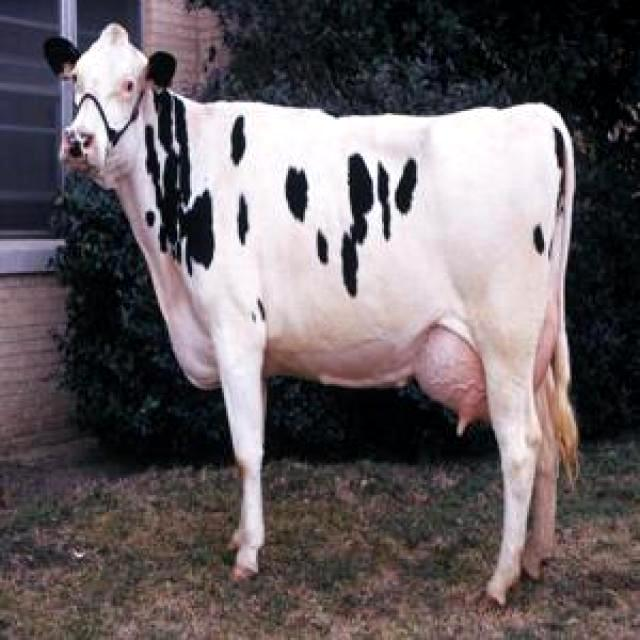COW: (46, 24, 578, 603)
